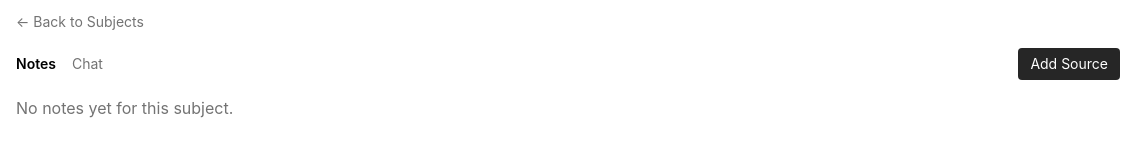
Test: switching to the Chat tab renders the chat panel
This screenshot has width=1137, height=160.
Expected: the text "No notes yet for this subject." is shown, [16,98,233,118]
Click the button "Chat" at coordinates (87, 64), box [72,54,103,74]
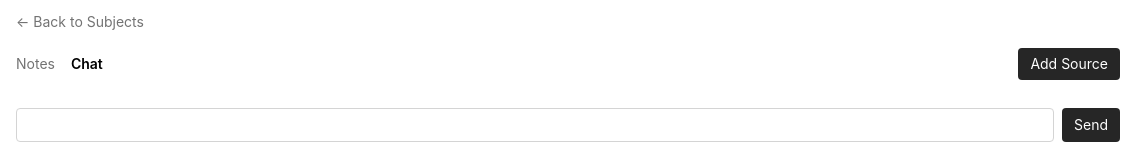
Now the field named "message" is shown, box [16,108,1054,142]
